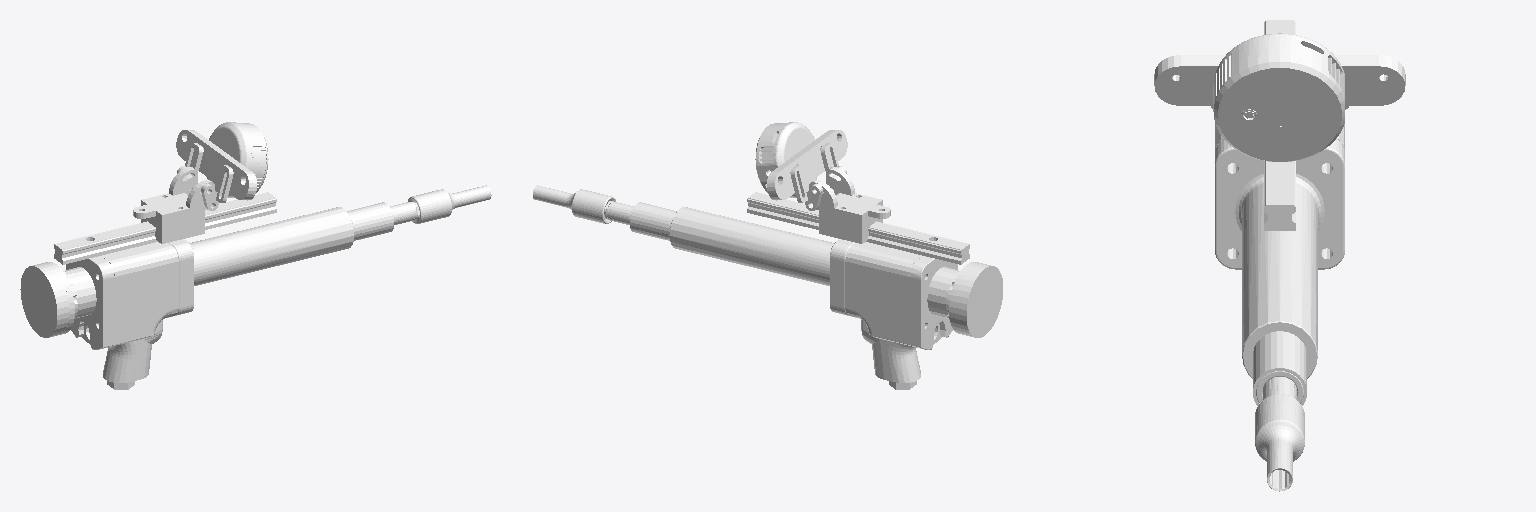
robot.urdf — end_effector:
<?xml version="1.0" encoding="utf-8"?>
<!-- This URDF was automatically created by SolidWorks to URDF Exporter! Originally created by [author] ([email redacted]) 
     Commit Version: 1.6.0-4-g7f85cfe  Build Version: 1.6.7995.38578
     For more information, please see http://wiki.ros.org/sw_urdf_exporter -->
<robot
  name="end_effector">
  <link
    name="pneumatic_base_link">
    <inertial>
      <origin
        xyz="0.1249 -4.7993E-05 0.0089791"
        rpy="0 0 0" />
      <mass
        value="0.77161" />
      <inertia
        ixx="0.00049513"
        ixy="-7.8018E-08"
        ixz="-2.0905E-06"
        iyy="0.00089931"
        iyz="-1.037E-07"
        izz="0.00073233" />
    </inertial>
    <visual>
      <origin
        xyz="0 0 0"
        rpy="0 0 0" />
      <geometry>
        <mesh
          filename="package://end_effector/meshes/base_link.STL" />
      </geometry>
      <material
        name="">
        <color
          rgba="1 1 1 1" />
      </material>
    </visual>
    <collision>
      <origin
        xyz="0 0 0"
        rpy="0 0 0" />
      <geometry>
        <mesh
          filename="package://end_effector/meshes/base_link.STL" />
      </geometry>
    </collision>
  </link>
</robot>

--- What the picture shows (computed from the rendered views, not written in the file) ---
3 views of the same robot in one strip: view 1: azimuth 30°, elevation 25°; view 2: azimuth 150°, elevation 25°; view 3: azimuth 270°, elevation 25° (orthographic).
Model end_effector with 1 links and 0 joints (none), rooted at pneumatic_base_link, posed all joints at 0.
Visible links, largest first — view 1: pneumatic_base_link; view 2: pneumatic_base_link; view 3: pneumatic_base_link.
Link boxes in pixels (left/top/right/bottom): pneumatic_base_link: left=20, top=122, right=491, bottom=389; pneumatic_base_link: left=533, top=122, right=1002, bottom=389; pneumatic_base_link: left=1154, top=20, right=1405, bottom=491.
Bounding box of the posed robot: 0.42 × 0.1151 × 0.2074 m (x, y, z).
1 mesh visuals loaded from 1 distinct referenced files (1 binary STL).